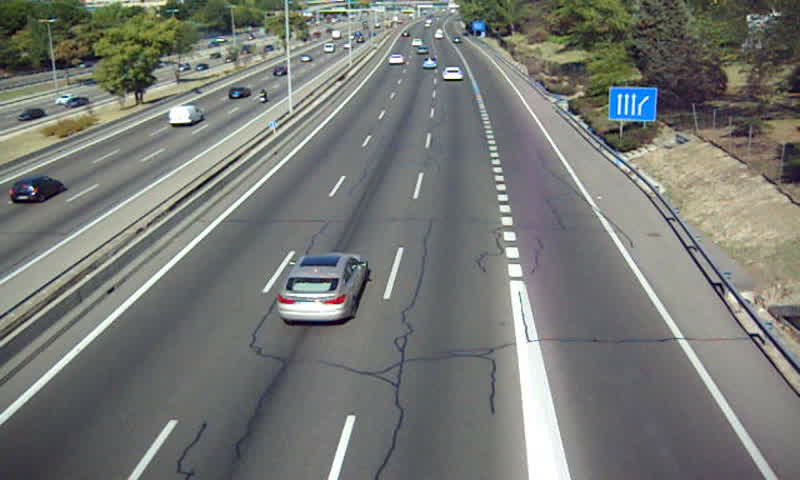car: (275, 254, 370, 319), (442, 65, 464, 81), (388, 54, 405, 66)
